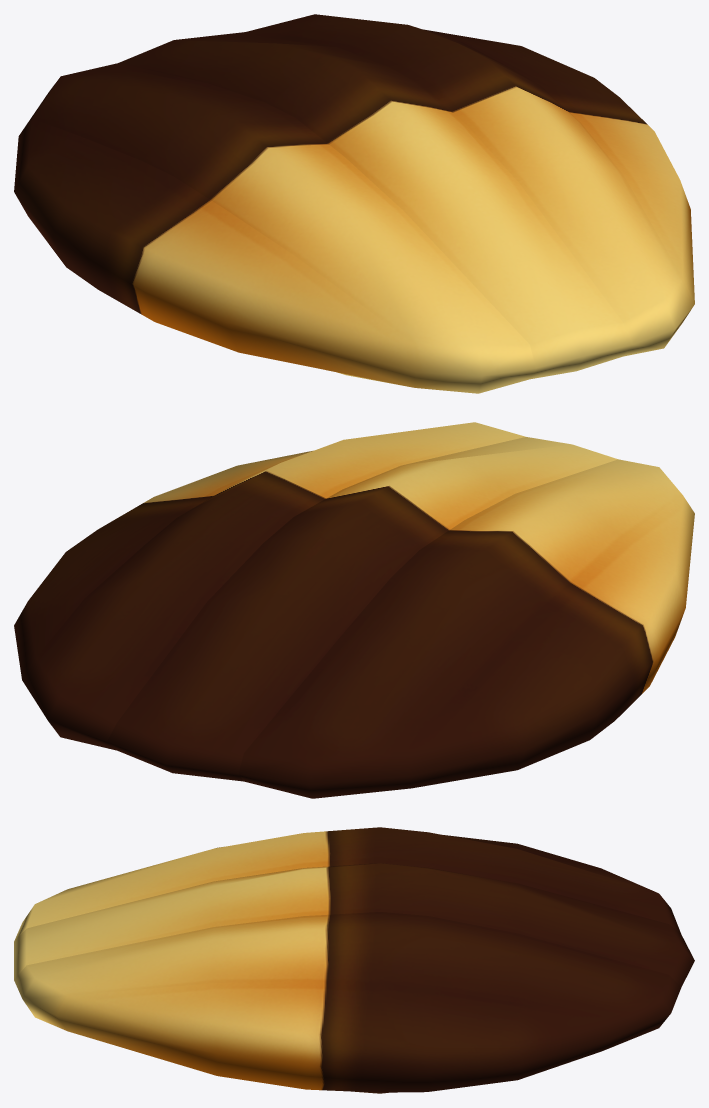
The model's file is Madeleine_02.fbx.
3 views of the same model, one above another, from view 1: azimuth 30°, elevation 25°; view 2: azimuth 150°, elevation 25°; view 3: azimuth 270°, elevation 25° (orthographic). The views are drawn at different scales.
Parts seen in each view (by area): view 1: Madeleine_02; view 2: Madeleine_02; view 3: Madeleine_02.
Boxes of the visible parts, left/top/right/bottom form: Madeleine_02: left=14, top=14, right=694, bottom=393; Madeleine_02: left=14, top=422, right=694, bottom=798; Madeleine_02: left=14, top=827, right=694, bottom=1093.
Bounding box in the file's own units: 26.96 × 11.03 × 35.56.
